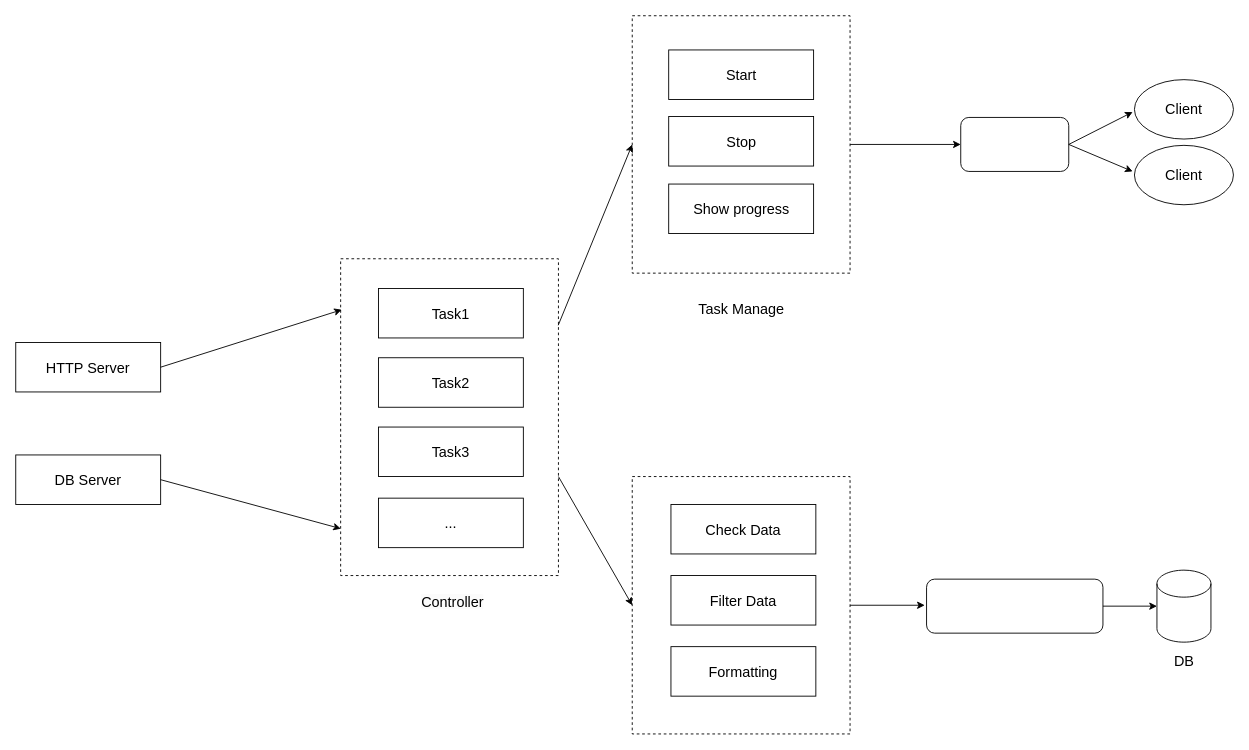
Image size: 1249x750. Some labels were removed from this diagram. The centre of each missing label's shape, as x and y in pixels:
"Insert/Update Datas" belongs at (x=1014, y=605).
"Router" belongs at (x=1014, y=144).
